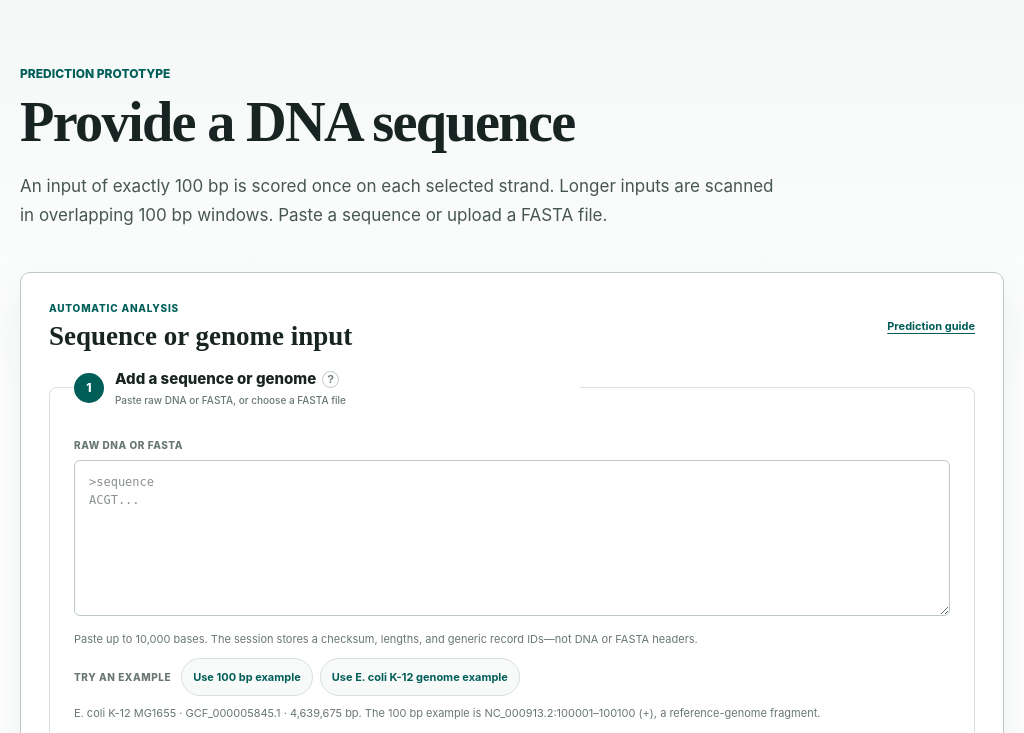
prototype prediction workbench › pastes the verified whole-genome example into the sequence editor
Click the button "Use E. coli K-12 genome example". click: (420, 677)
box: [320,658,520,696]
(page scrolled)
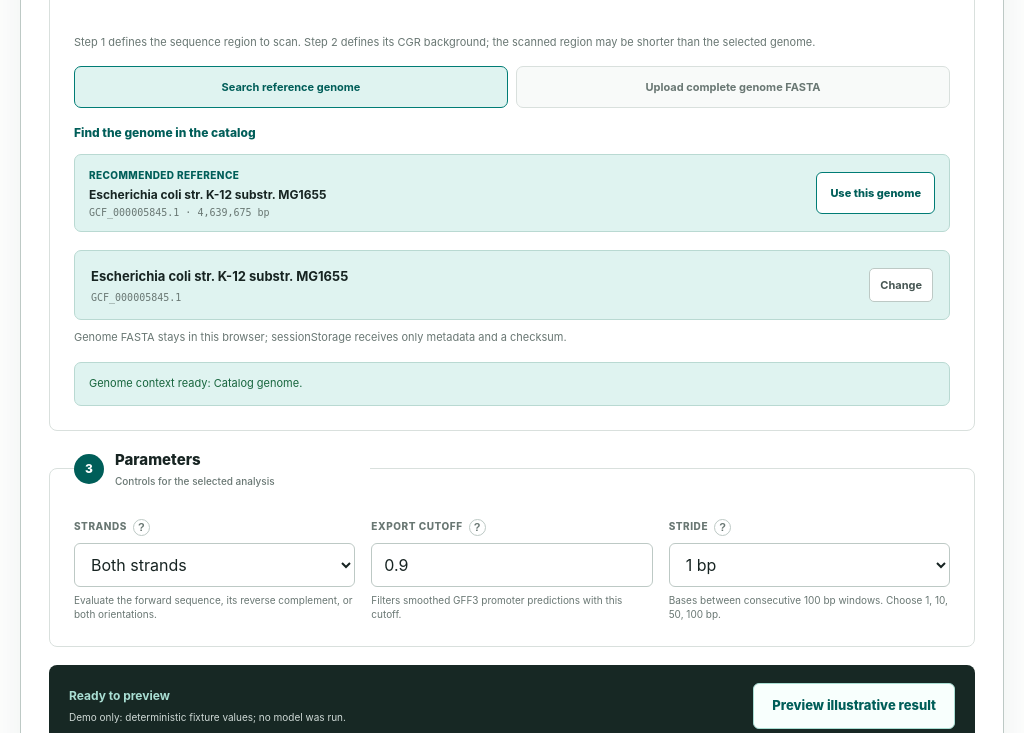
Expected: the text "Genome context ready: Catalog genome." is shown, [74,362,950,406]
